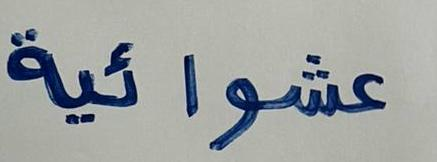ain: (349, 61, 398, 130)
alef: (166, 41, 204, 123)
hamza: (99, 25, 150, 120)
sheen: (276, 35, 345, 144)
teh_marbota: (3, 16, 57, 112)
waw: (207, 55, 272, 154)
yeh: (60, 59, 97, 136)
